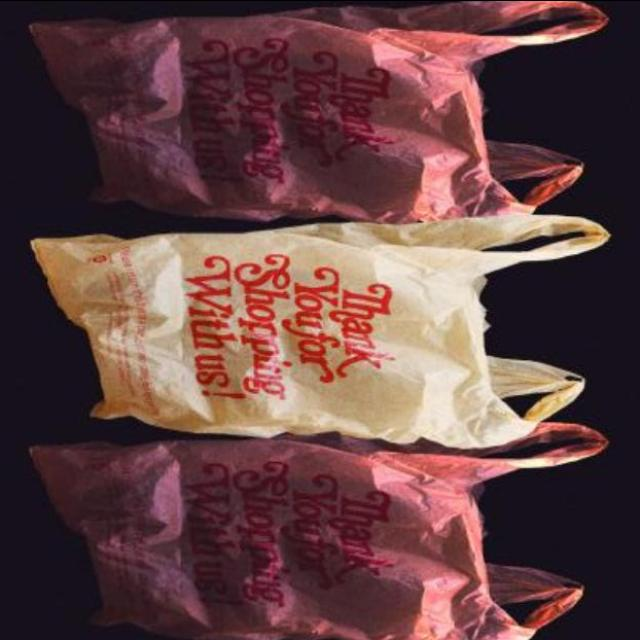plastik: (32, 213, 609, 447), (30, 0, 607, 222), (31, 421, 607, 640)
